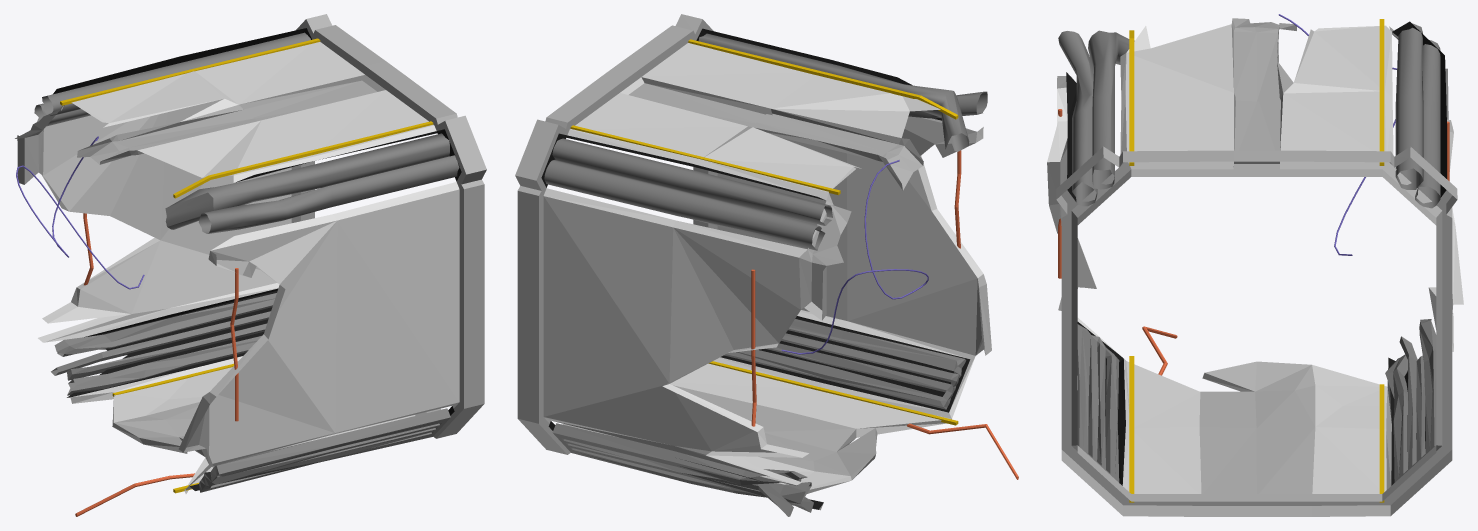
File: Broken_Corridor.fbx
The picture shows the model from 3 angles, left to right: view 1: azimuth 30°, elevation 25°; view 2: azimuth 150°, elevation 25°; view 3: azimuth 270°, elevation 25°; orthographic projection. The views are drawn at different scales.
Parts seen in each view (by area): view 1: Broken-Corridor, Broken-Corridor_lights.003, Broken-Corridor_lights; view 2: Broken-Corridor, Broken-Corridor_lights.003, Broken-Corridor_lights, Broken-Corridor_lights.001; view 3: Broken-Corridor, Broken-Corridor_lights.001, Broken-Corridor_lights, Broken-Corridor_lights.003, Broken-Corridor_lights.002.
Part boxes in pixels (x1=…): Broken-Corridor: x1=15, y1=14, x2=486, y2=516; Broken-Corridor_lights.003: x1=173, y1=121, x2=433, y2=198; Broken-Corridor_lights: x1=60, y1=38, x2=320, y2=105; Broken-Corridor: x1=515, y1=14, x2=1018, y2=516; Broken-Corridor_lights.003: x1=688, y1=39, x2=957, y2=119; Broken-Corridor_lights: x1=570, y1=125, x2=840, y2=195; Broken-Corridor_lights.001: x1=708, y1=115, x2=958, y2=425; Broken-Corridor: x1=1047, y1=14, x2=1463, y2=516; Broken-Corridor_lights.001: x1=1129, y1=356, x2=1134, y2=502; Broken-Corridor_lights: x1=1379, y1=19, x2=1384, y2=165; Broken-Corridor_lights.003: x1=1129, y1=30, x2=1134, y2=165; Broken-Corridor_lights.002: x1=1379, y1=384, x2=1384, y2=502.
Bounding box in the file's own units: 491 × 445 × 450.
